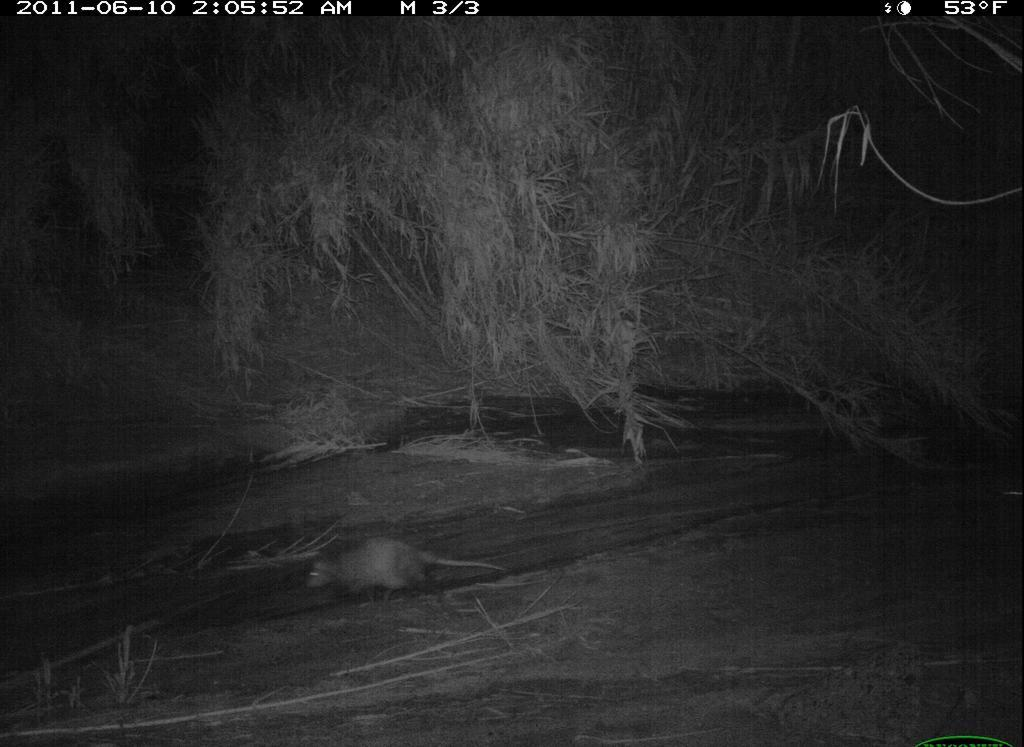opossum: (295, 528, 483, 615)
